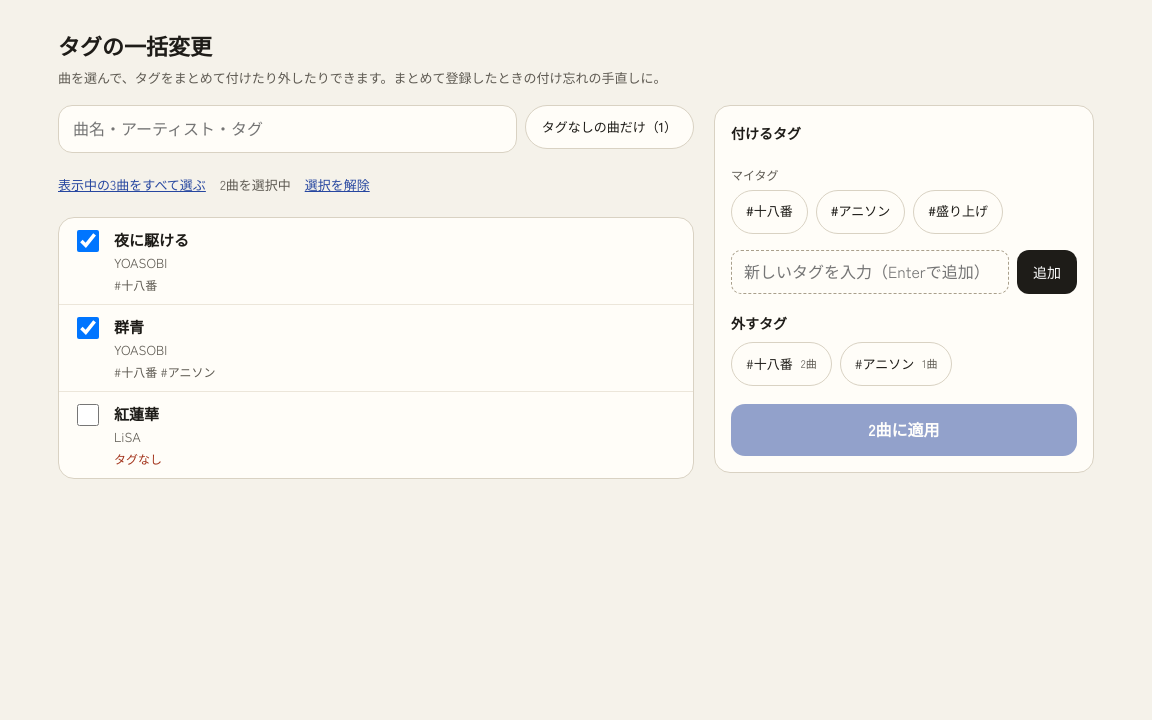
Test: BulkEditScreen: タグの変更 › 付けるタグと外すタグを選んで適用する
Expected: the button "2曲に適用" is disabled, x1=731 y1=404 x2=1077 y2=456
Click the button "#盛り上げ" at coordinates (958, 212), box x1=913 y1=190 x2=1003 y2=234
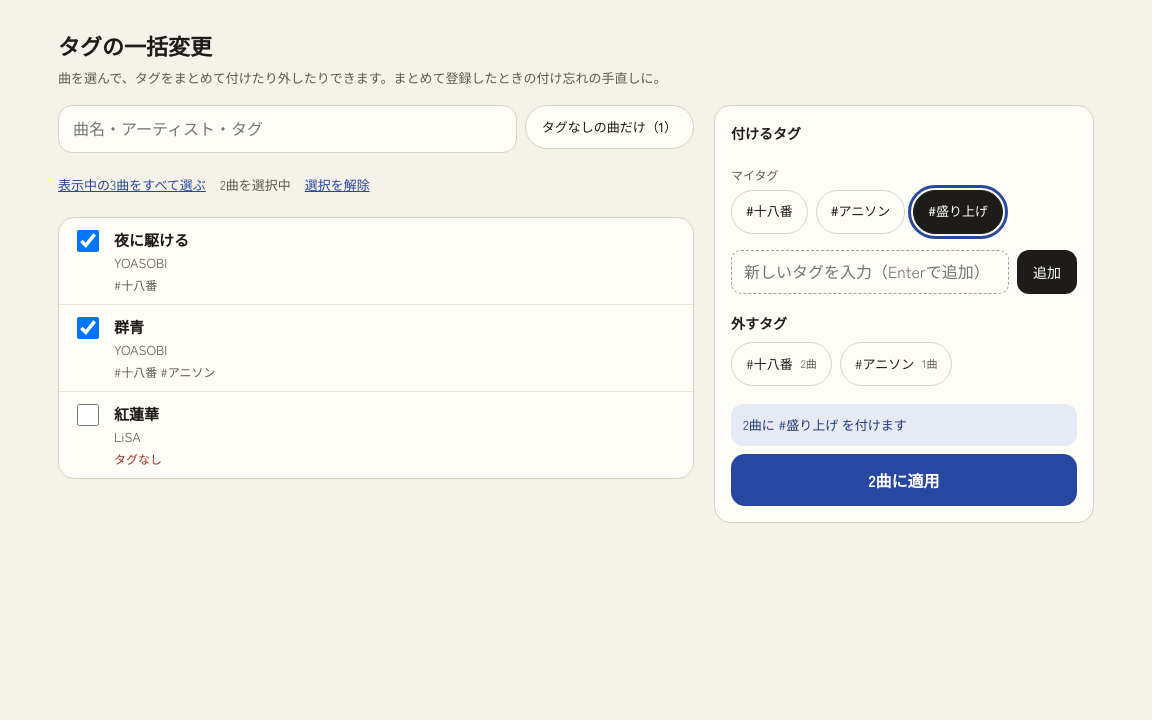
Type "新" into the field labelled "新しいタグ" at coordinates (870, 272), box x1=731 y1=250 x2=1009 y2=294
Then press Enter
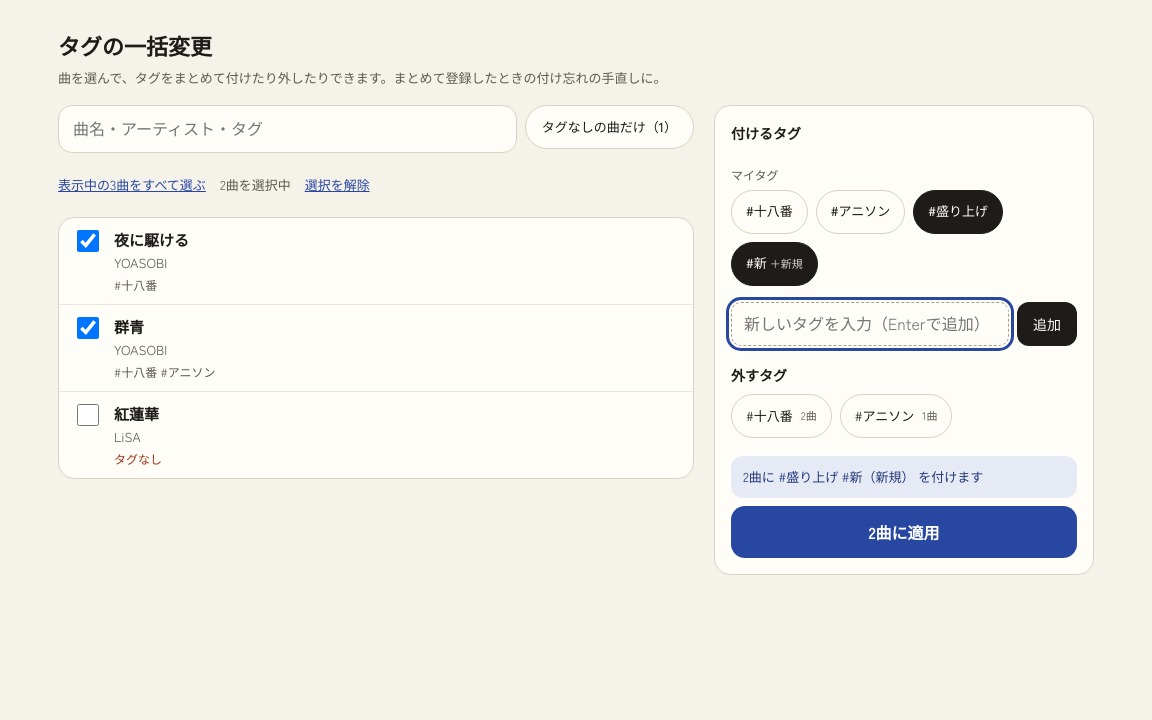
Now the text "2曲に #盛り上げ #新（新規） を付けます" is shown, box x1=731 y1=456 x2=1077 y2=498
Click the button "#アニソン 1曲" at coordinates (896, 416), box x1=840 y1=394 x2=952 y2=438
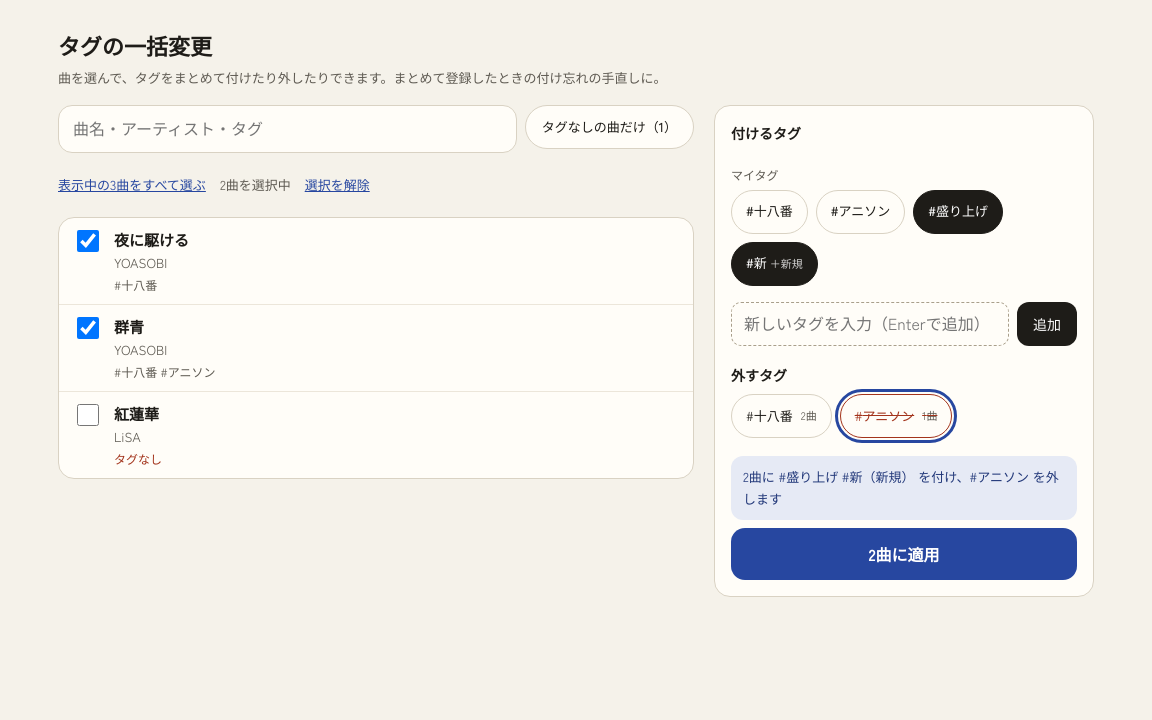
Now the text "2曲に #盛り上げ #新（新規） を付け、#アニソン を外します" is shown, box x1=731 y1=456 x2=1077 y2=520
Click the button "2曲に適用" at coordinates (904, 554), box x1=731 y1=528 x2=1077 y2=580
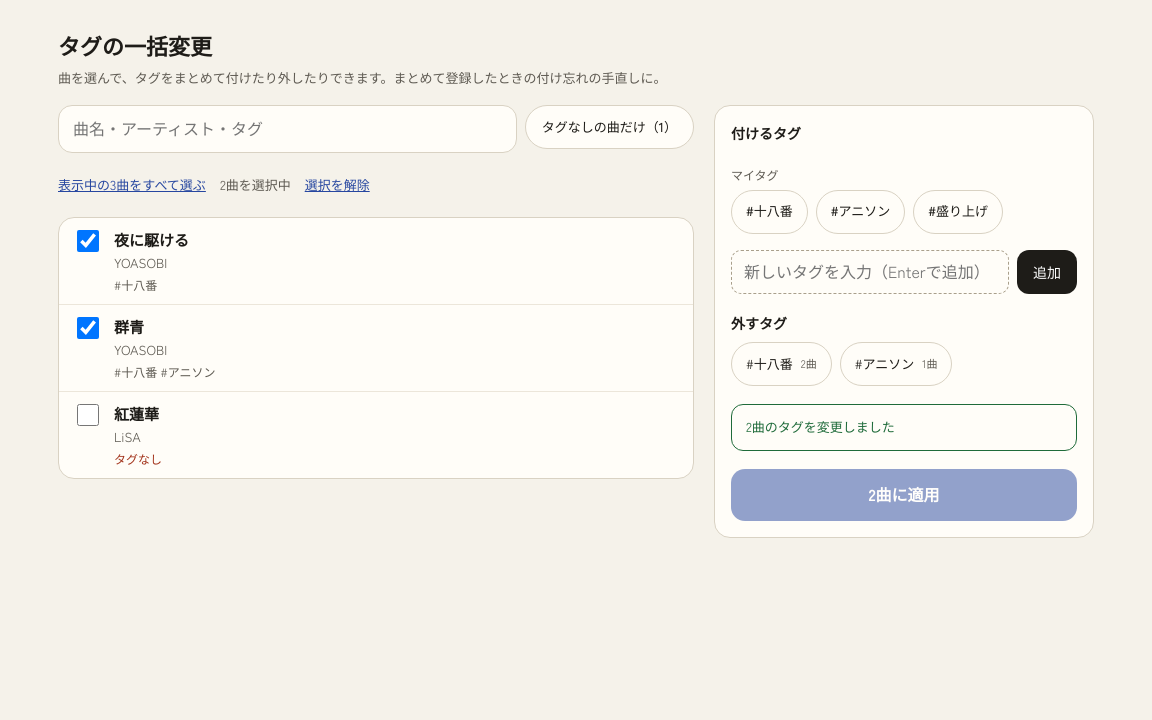
Now the message reads "2曲のタグを変更しました", box x1=746 y1=417 x2=895 y2=436
